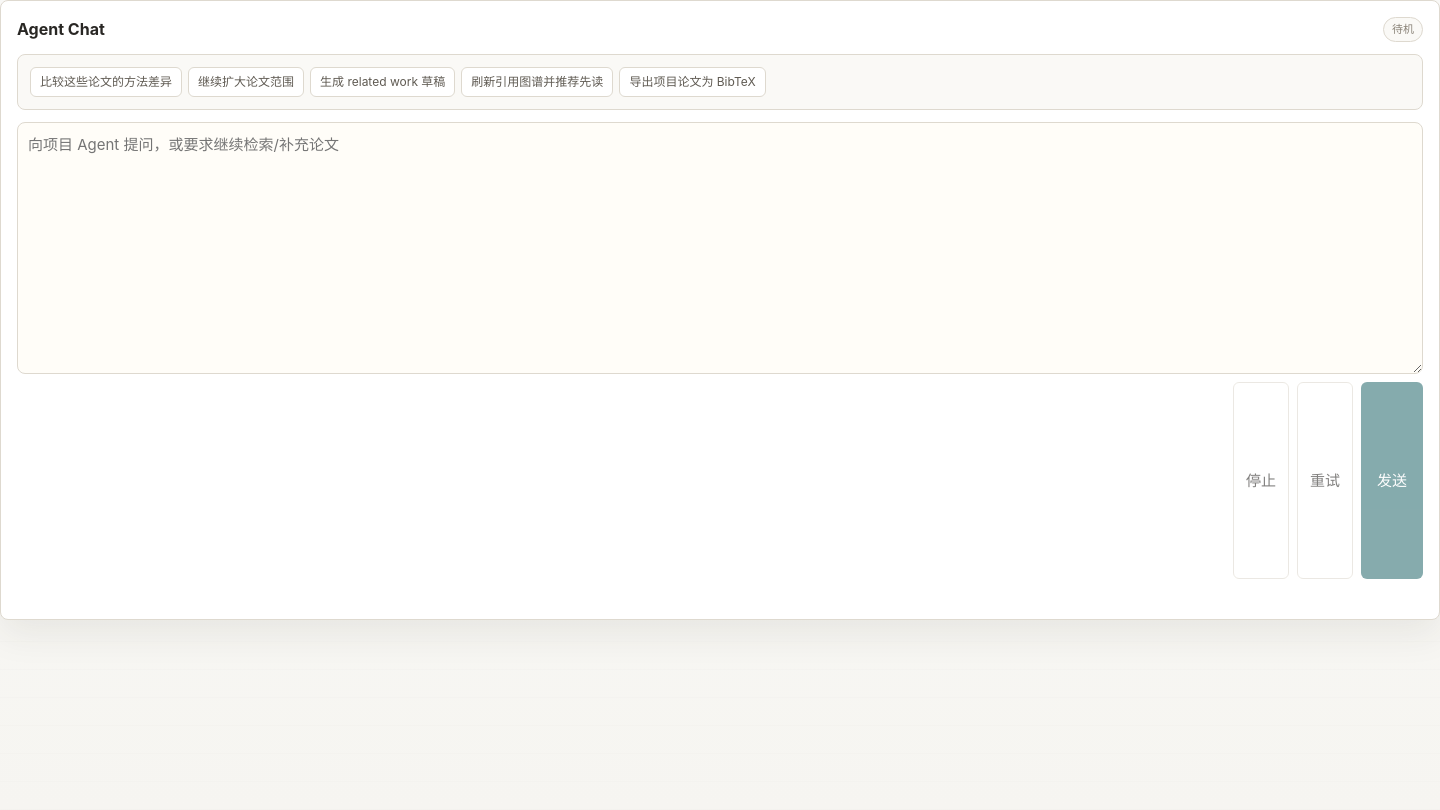
it: AgentChatPanel › disables repeat submission while busy
Type "问题一" into the text box with id "agent-message" at (720, 248), box [17, 122, 1423, 374]
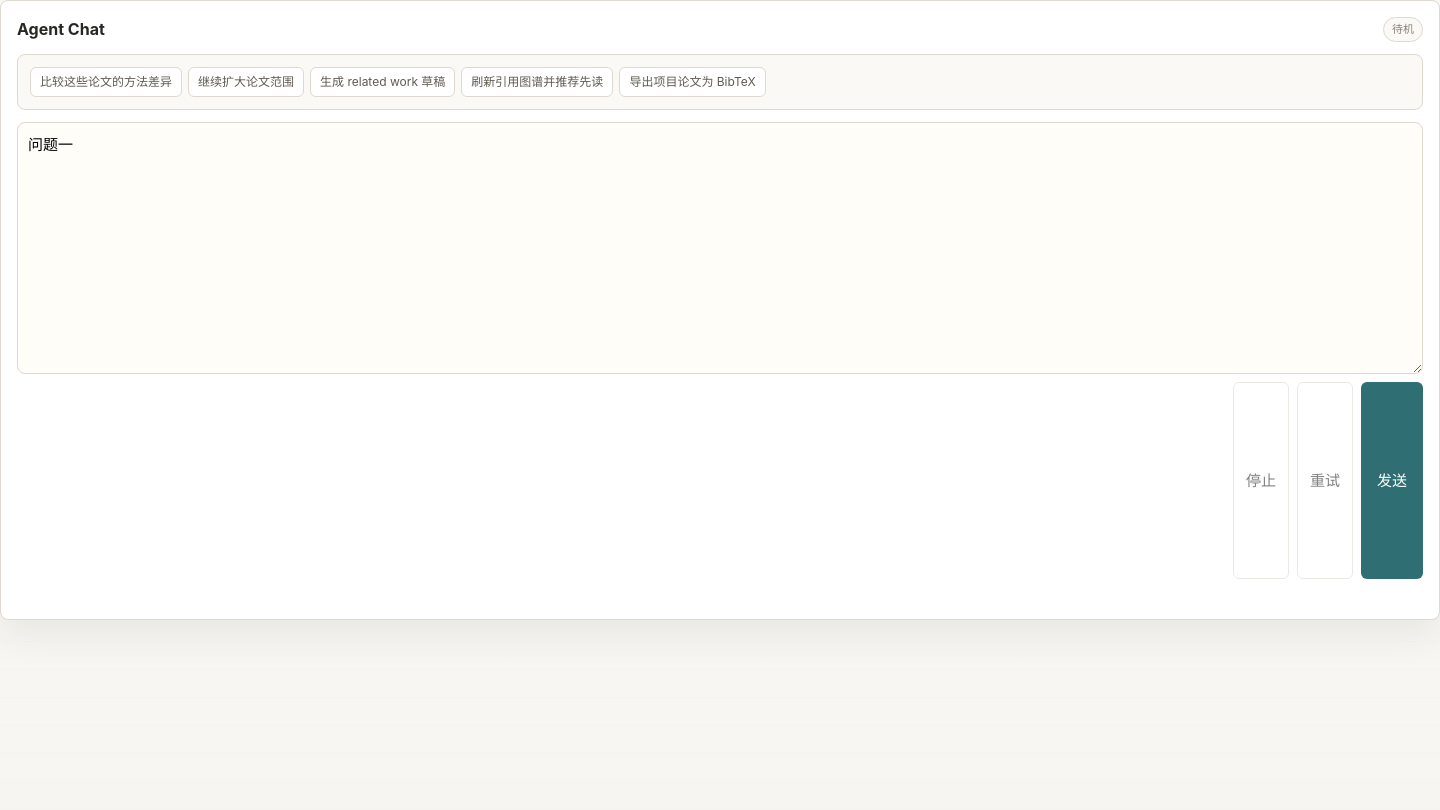
Click the button "发送" at (1392, 481), box [1361, 382, 1423, 579]
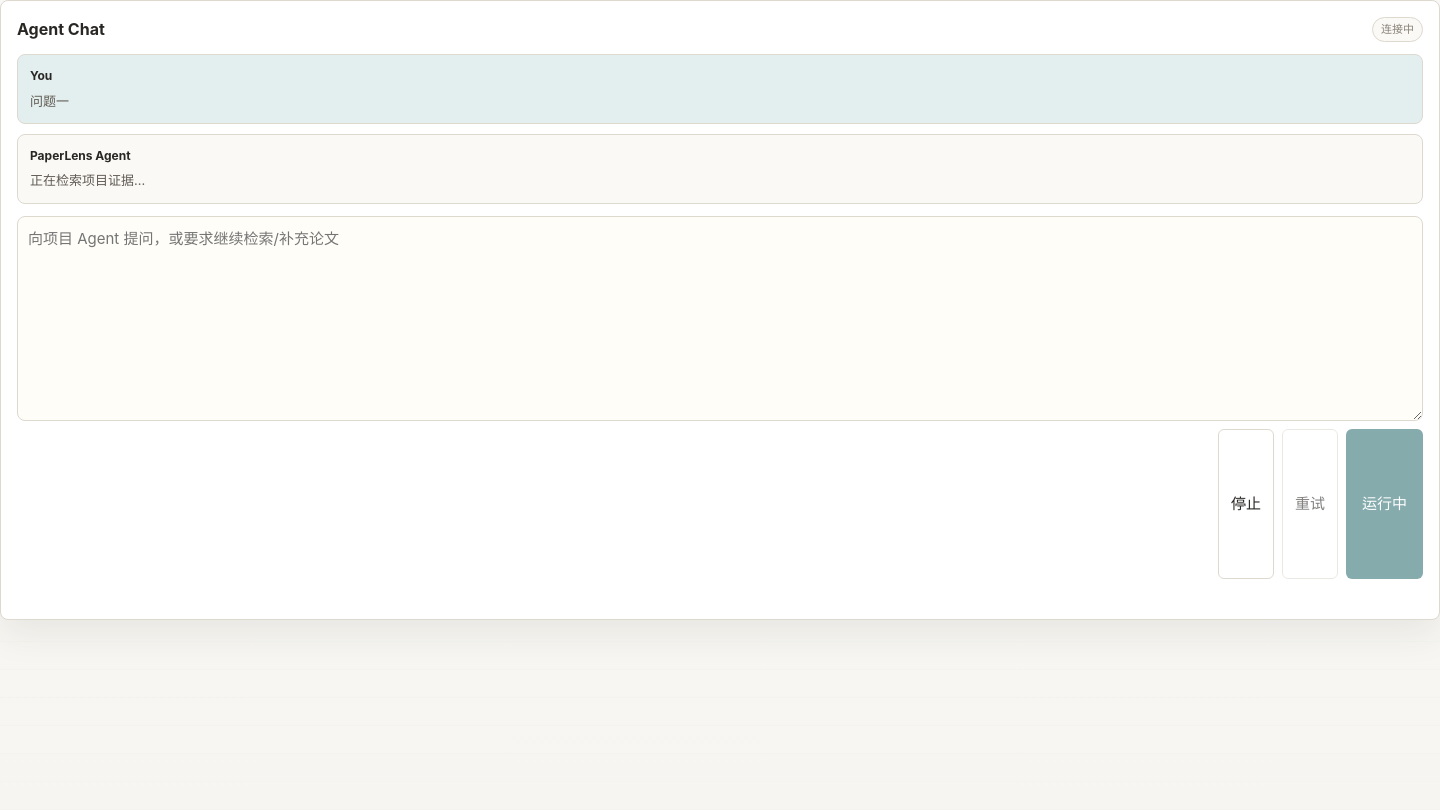
Expected: the button "运行中" is disabled, [1346, 429, 1423, 579]
